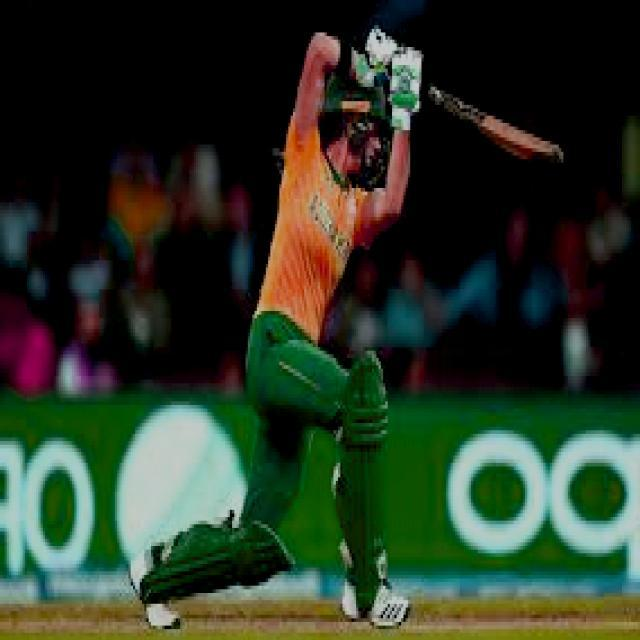bat: (420, 83, 565, 163)
toe: (547, 142, 567, 161)
